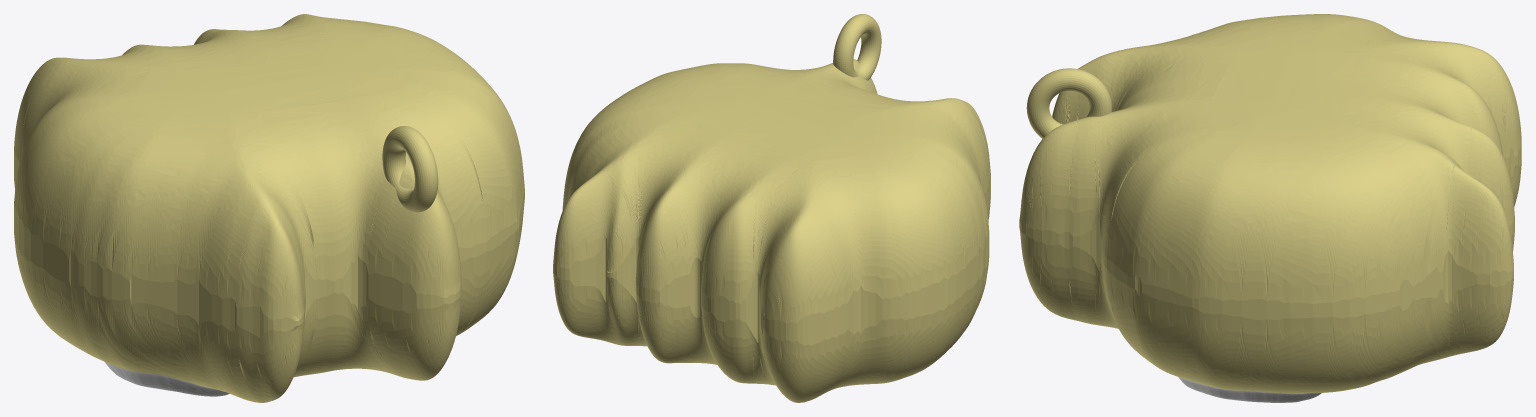
File: 524-keychain-40mm.glb
3 renders of one model, left to right at view 1: azimuth 30°, elevation 25°; view 2: azimuth 150°, elevation 25°; view 3: azimuth 270°, elevation 25°, orthographic. The views are drawn at different scales.
Parts seen in each view (by area): view 1: yellow, white; view 2: yellow; view 3: yellow, white.
Part boxes in pixels (<box>): yellow: <box>14,14,524,402</box>; white: <box>105,362,229,396</box>; yellow: <box>553,14,990,402</box>; yellow: <box>1019,14,1521,393</box>; white: <box>1178,377,1321,402</box>.
Size of the model in its own units: 39.22 by 24.41 by 40.
